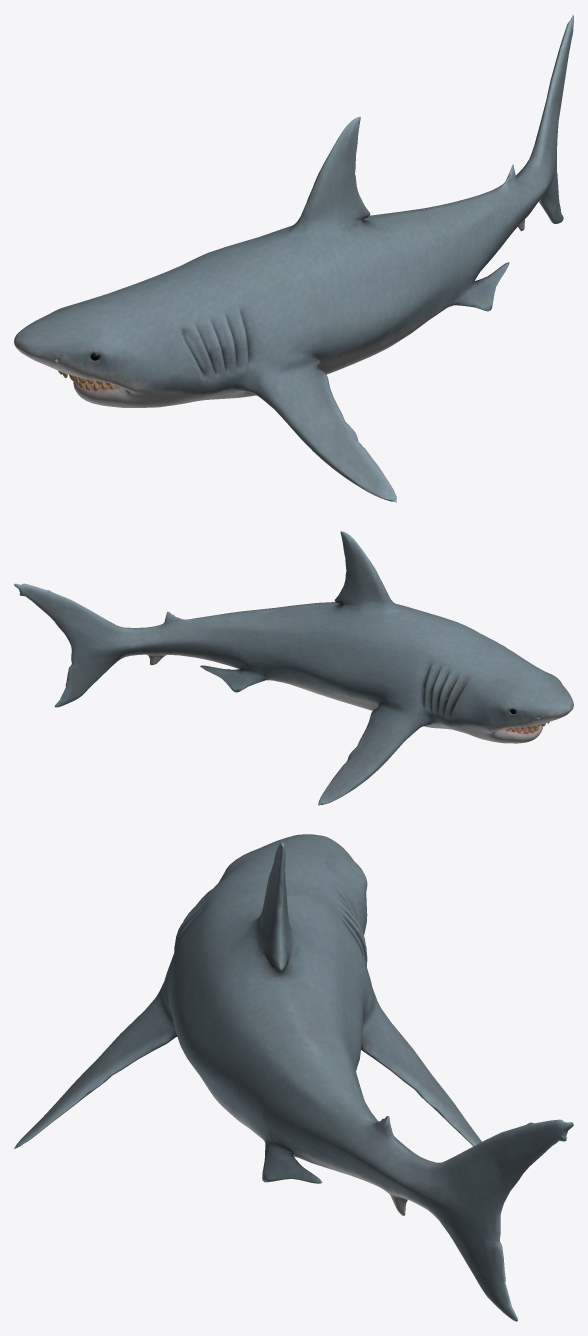
Rendered from MZ4250 - Giant Shark.glb.
3 renders of one model, top to bottom at view 1: azimuth 30°, elevation 25°; view 2: azimuth 150°, elevation 25°; view 3: azimuth 270°, elevation 25°, orthographic. The views are drawn at different scales.
Parts seen in each view (by area): view 1: Giant Shark.001; view 2: Giant Shark.001; view 3: Giant Shark.001.
Part boxes in pixels (x1,y1,x2,y2): Giant Shark.001: (14,14,573,502); Giant Shark.001: (14,531,573,805); Giant Shark.001: (14,834,573,1321).
Bounding box in the file's own units: 131 × 56.55 × 79.03.
Materials: 1 (1 with a texture image).
